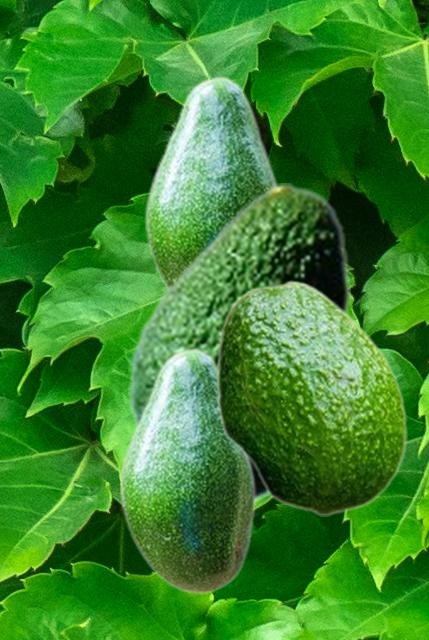avocado: (128, 183, 349, 504), (215, 279, 406, 515), (118, 347, 255, 594), (143, 75, 280, 287)
